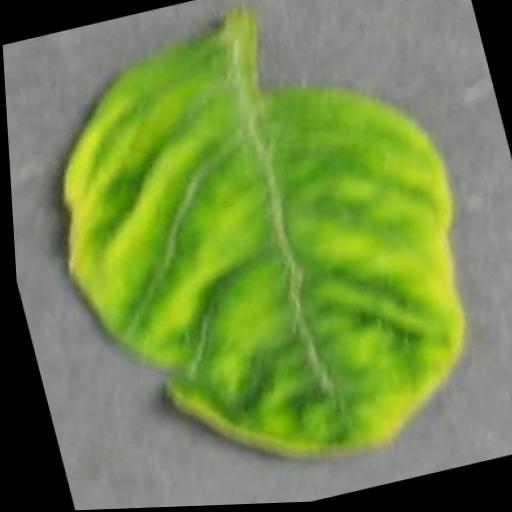Yellow Leaf Curl Virus: (11, 0, 509, 512)
